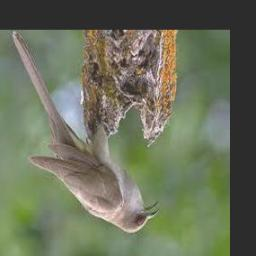Cuckoo: (13, 32, 160, 233)
